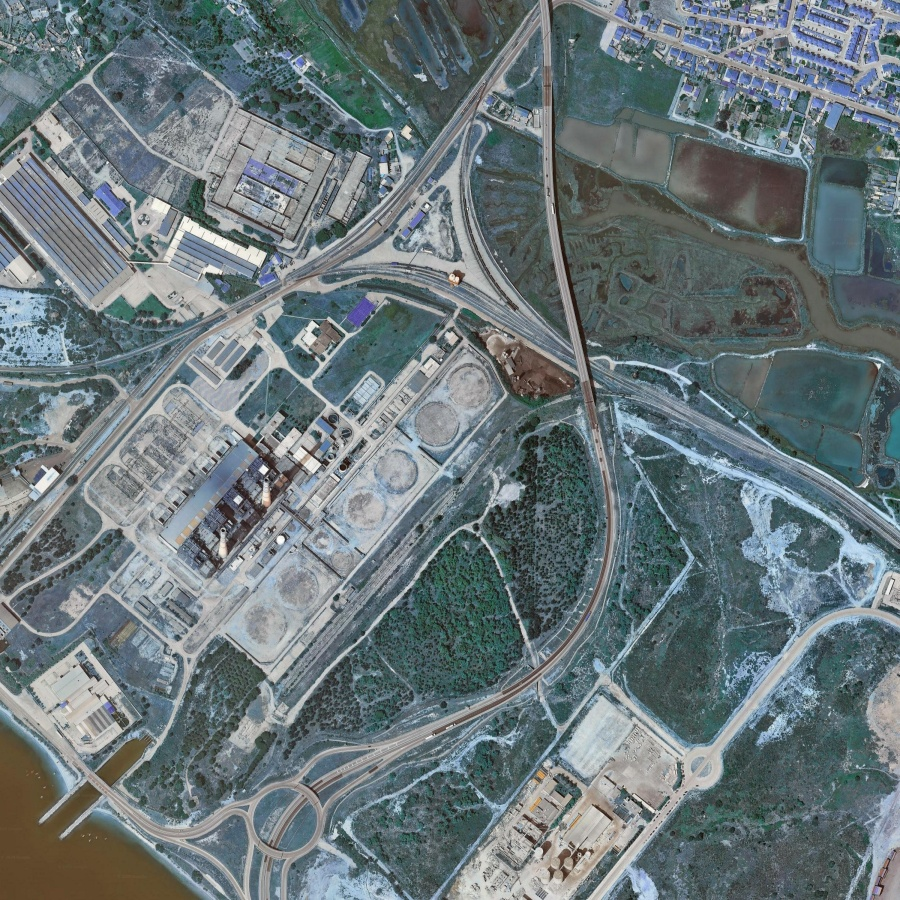PowerPlant: (119, 310, 494, 651)
